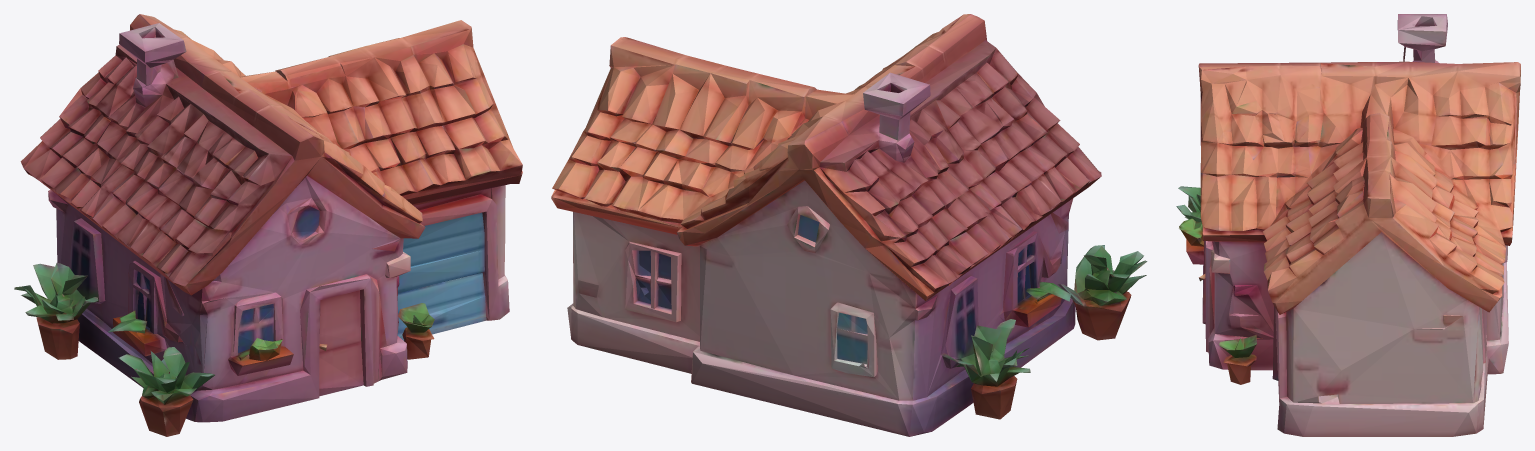
Rendered from b-house2.glb.
The picture shows the model from 3 angles, left to right: view 1: azimuth 30°, elevation 25°; view 2: azimuth 150°, elevation 25°; view 3: azimuth 270°, elevation 25°; orthographic projection. The views are drawn at different scales.
Visible parts, largest first — view 1: geometry_0; view 2: geometry_0; view 3: geometry_0.
Boxes of the visible parts, box(x1,y1,x2,y2) form: geometry_0: box(14, 14, 522, 436); geometry_0: box(551, 14, 1147, 436); geometry_0: box(1176, 14, 1520, 436).
Size of the model in its own units: 0.9978 by 0.6666 by 0.7376.
Materials: 1 (1 with a texture image).
